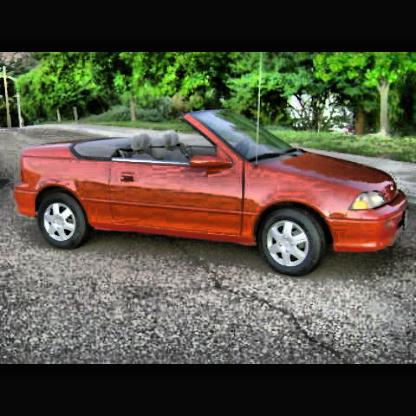Geo Metro Convertible 1993: (18, 108, 409, 277)
